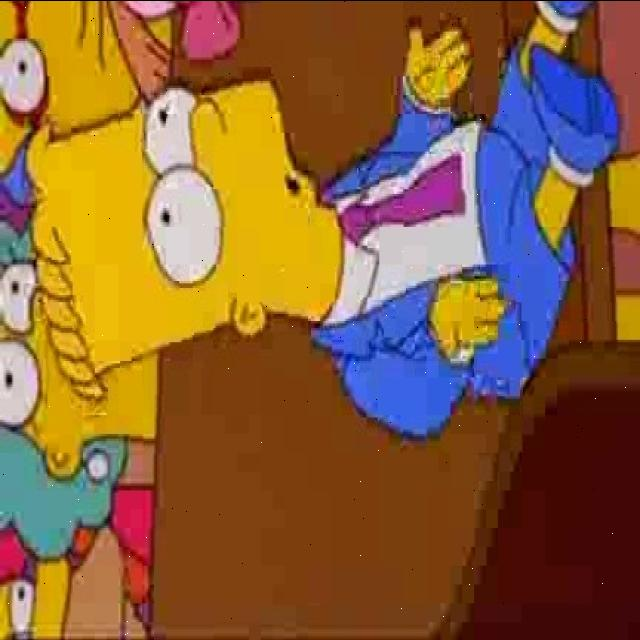Bart Simpson: (25, 70, 342, 397)
